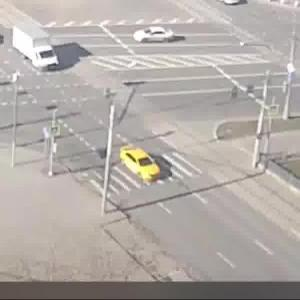car: (13, 25, 62, 73), (122, 150, 161, 187), (132, 25, 178, 47)
